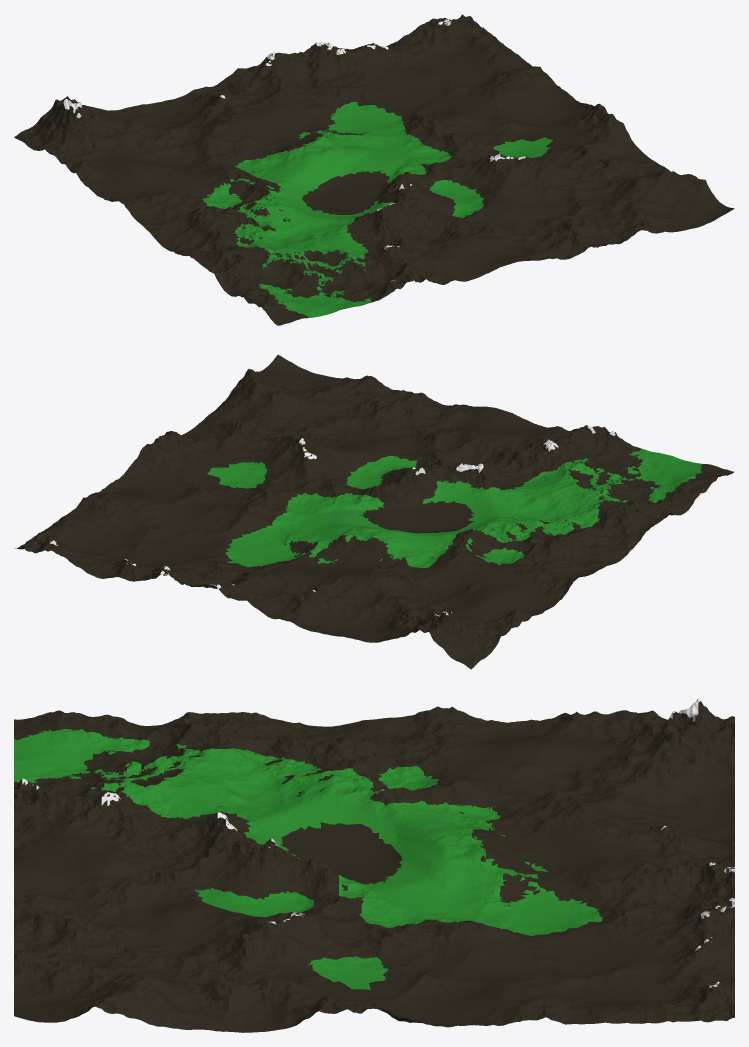
Rendered from terrain.fbx.
The picture shows the model from 3 angles, top to bottom: view 1: azimuth 30°, elevation 25°; view 2: azimuth 150°, elevation 25°; view 3: azimuth 270°, elevation 25°; orthographic projection. The views are drawn at different scales.
Parts seen in each view (by area): view 1: Terrain; view 2: Terrain; view 3: Terrain.
Boxes of the visible parts, x1,y1,x2,y2 form: Terrain: (14, 14, 734, 325); Terrain: (14, 354, 734, 669); Terrain: (14, 698, 734, 1032).
Size of the model in its own units: 45866 by 4021 by 45866.
